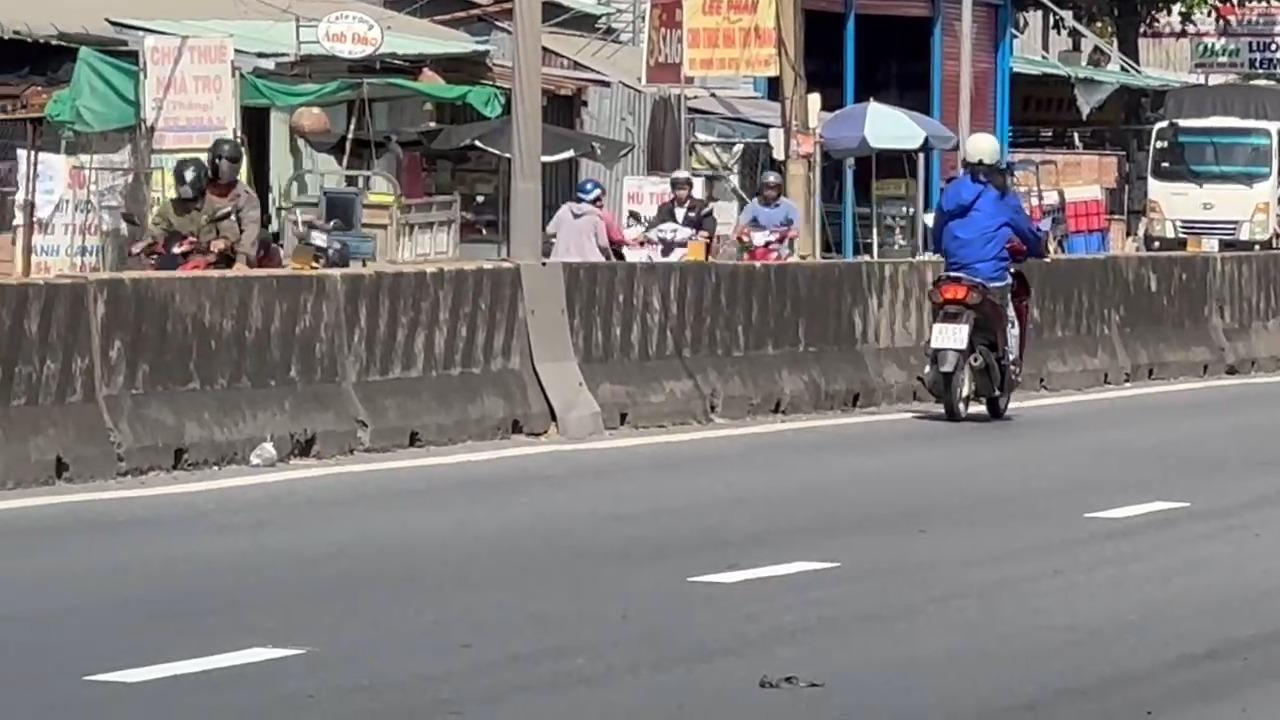bien_so: (929, 321, 970, 350)
